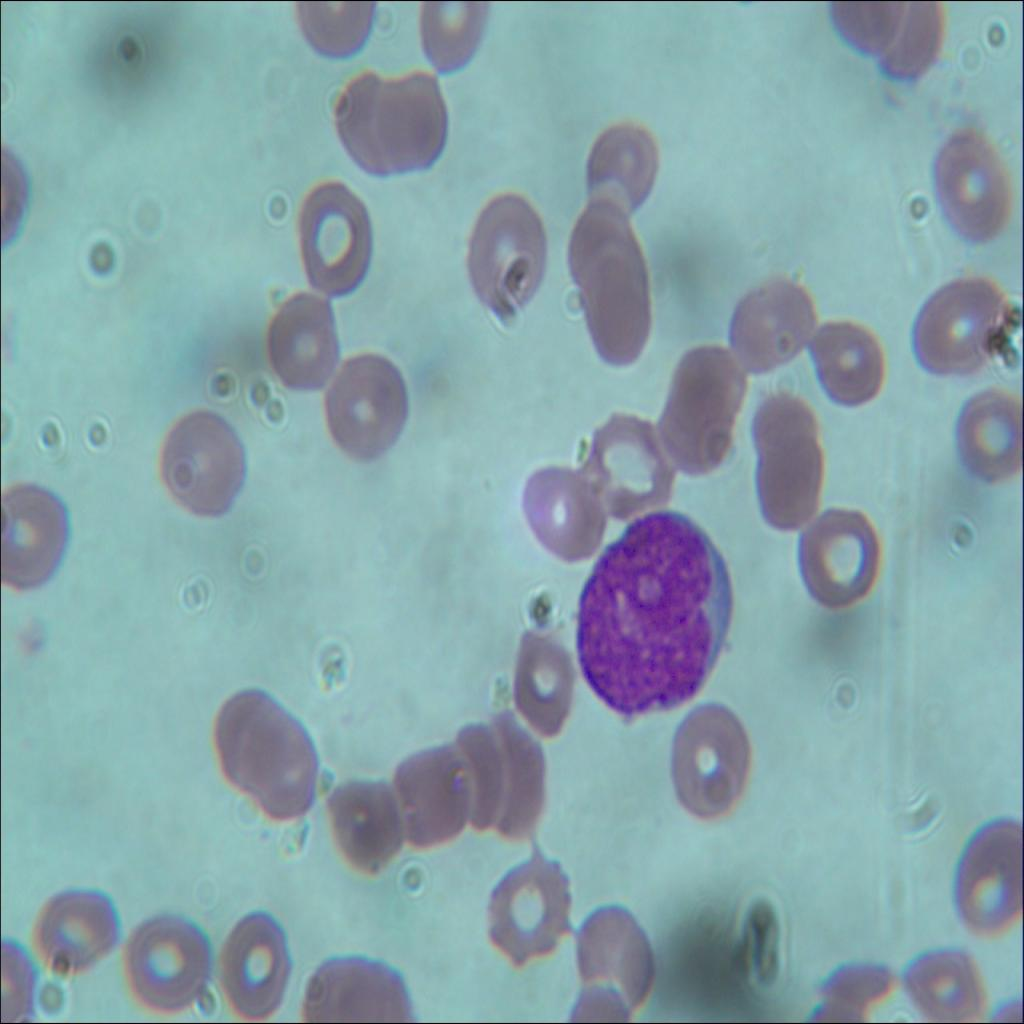Eritrosit: (459, 180, 554, 321), (151, 398, 243, 534), (928, 120, 1023, 248), (295, 164, 374, 315), (906, 274, 1006, 388), (650, 345, 741, 468), (486, 850, 576, 972), (668, 704, 756, 821), (206, 895, 286, 1019), (0, 484, 82, 604), (729, 260, 810, 381), (580, 418, 674, 522), (122, 911, 210, 1022), (948, 818, 1023, 948), (28, 878, 121, 981), (578, 900, 663, 1012), (810, 305, 892, 418), (949, 374, 1023, 497), (582, 252, 658, 368), (518, 458, 602, 562), (326, 355, 410, 456), (262, 287, 339, 397), (564, 194, 649, 292), (795, 509, 875, 612), (371, 72, 448, 177), (902, 928, 988, 1021), (390, 746, 469, 844), (482, 707, 542, 835), (449, 714, 508, 842), (508, 624, 574, 735), (250, 725, 318, 831), (329, 785, 409, 875), (584, 118, 658, 212), (212, 682, 278, 784), (335, 68, 395, 180), (756, 438, 830, 528), (868, 0, 944, 87), (748, 381, 818, 462), (412, 0, 490, 71)
Limfoblast: (576, 495, 730, 711)
